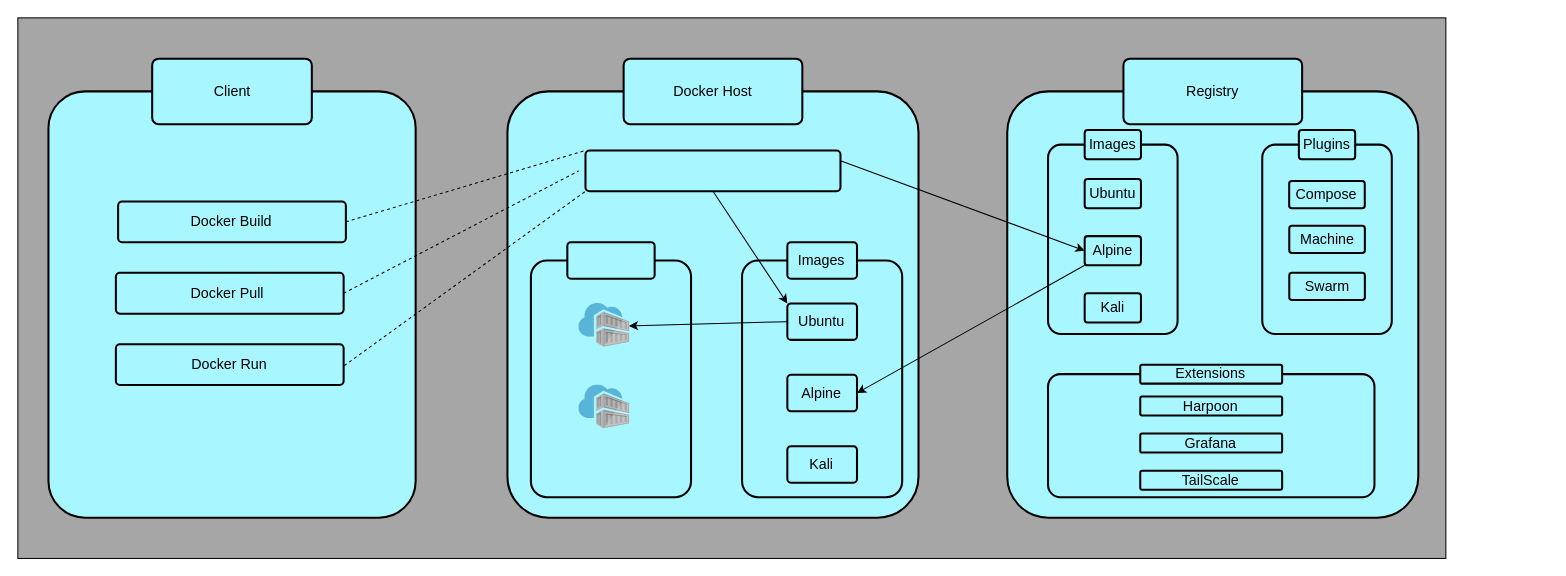
The diagram is 1566 pixels wide and 576 high, and some of its shapes have lost their labels. Each missing label, with the box of its shape:
Containers: (566, 241, 655, 279)
Docker Deamon: (584, 149, 841, 192)
